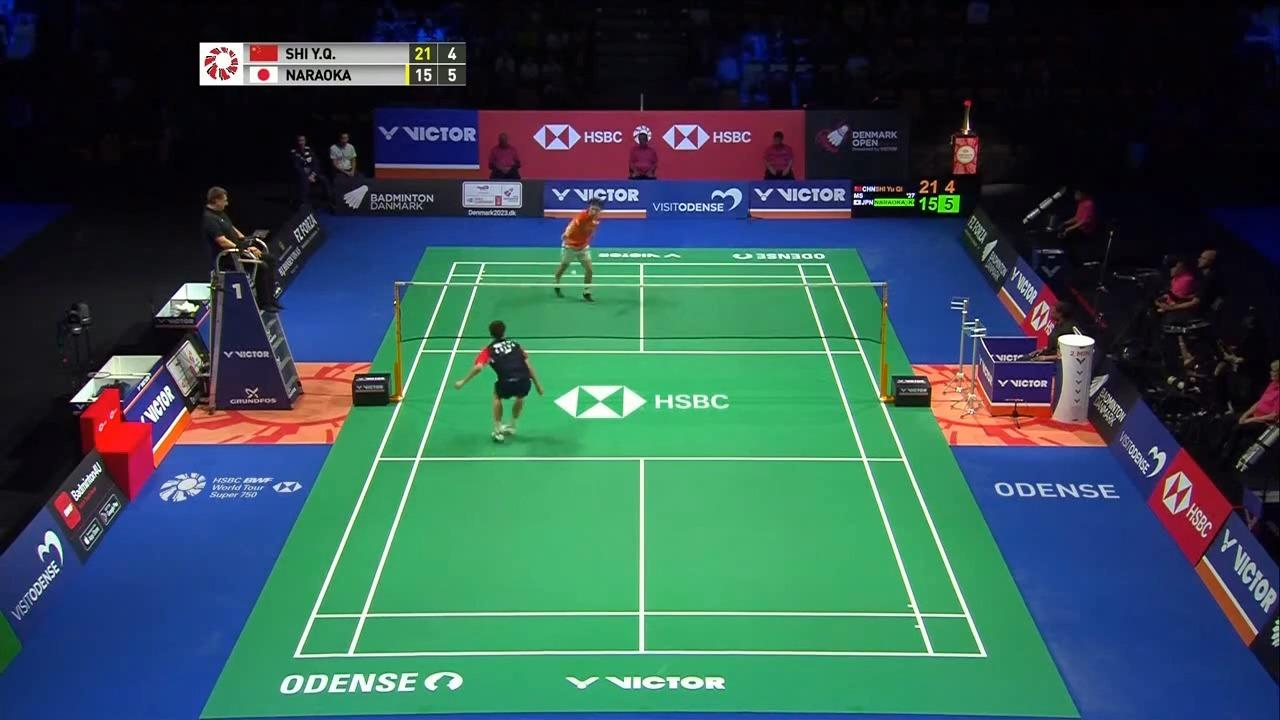shuttle: (564, 265, 578, 277)
